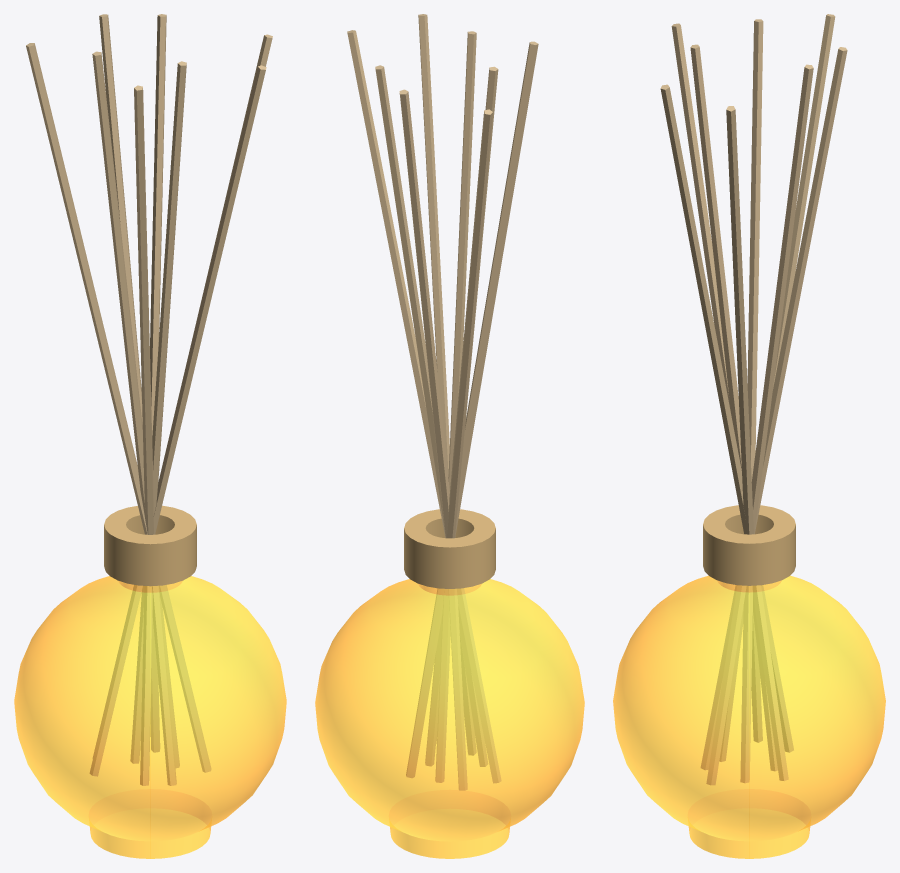
Rendered from JAC_27_Difusor.glb.
3 views of the same model, side by side, from view 1: azimuth 30°, elevation 25°; view 2: azimuth 150°, elevation 25°; view 3: azimuth 270°, elevation 25° (orthographic).
Parts seen in each view (by area): view 1: JAC_27_Difusor; view 2: JAC_27_Difusor; view 3: JAC_27_Difusor.
Part boxes in pixels (bbox=[...]): JAC_27_Difusor: bbox=[14, 14, 286, 858]; JAC_27_Difusor: bbox=[315, 14, 584, 858]; JAC_27_Difusor: bbox=[613, 14, 885, 858].
Bounding box in the file's own units: 0.1 × 0.3192 × 0.1.
